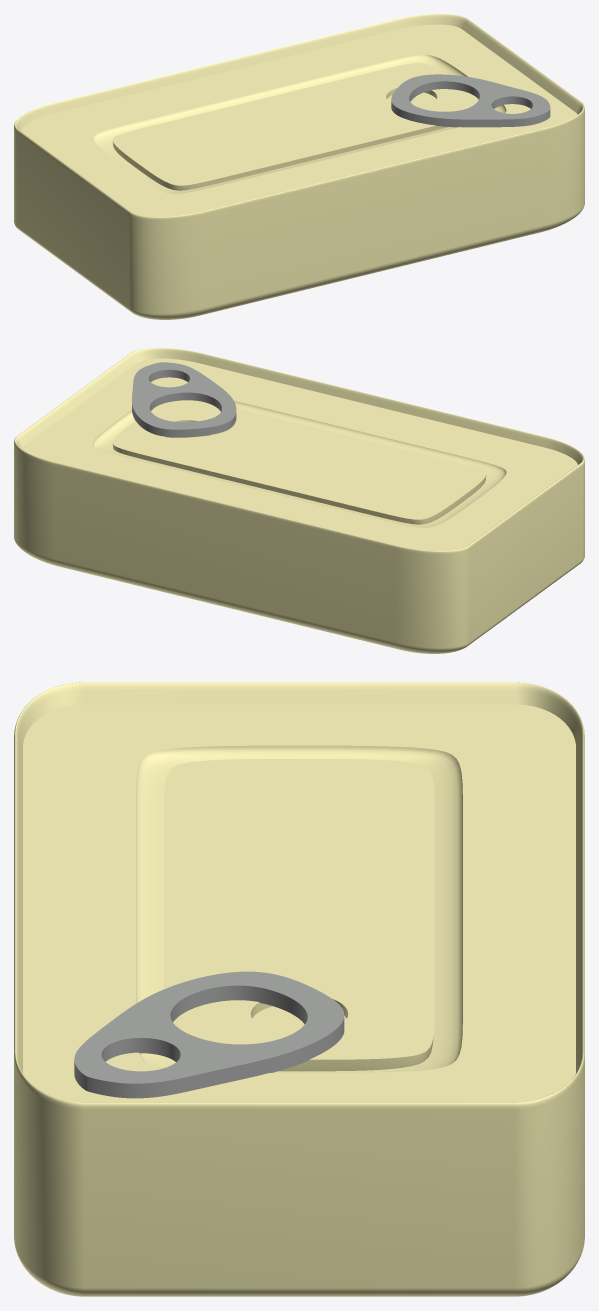
File: Sardine-Tin.glb
The picture shows the model from 3 angles, top to bottom: view 1: azimuth 30°, elevation 25°; view 2: azimuth 150°, elevation 25°; view 3: azimuth 270°, elevation 25°; orthographic projection. The views are drawn at different scales.
Visible parts, largest first — view 1: TIN-MESH; view 2: TIN-MESH; view 3: TIN-MESH.
Boxes of the visible parts, x1=… form: TIN-MESH: x1=14, y1=14, x2=584, y2=319; TIN-MESH: x1=14, y1=348, x2=584, y2=653; TIN-MESH: x1=14, y1=682, x2=584, y2=1296.
Bounding box in the file's own units: 0.105 × 0.025 × 0.06.
Materials: 2 (2 with a texture image).
